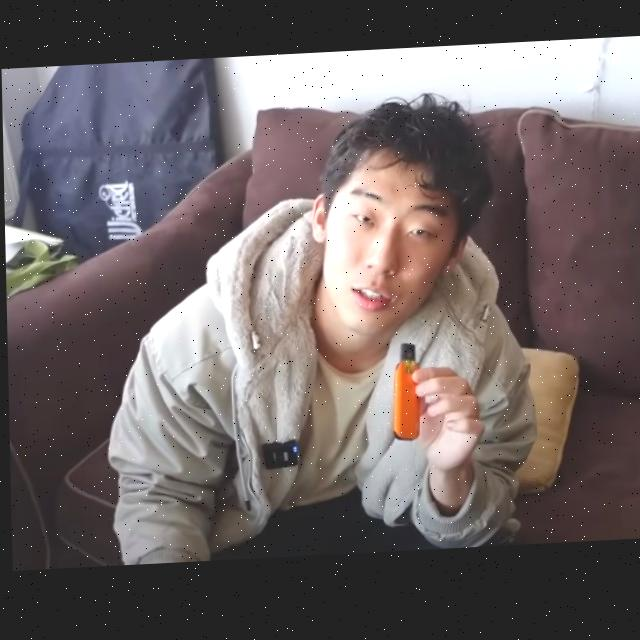vape: (389, 347, 420, 448)
